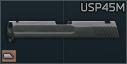HK USP Match .45 ACP pistol slide: (0, 0, 127, 64)
